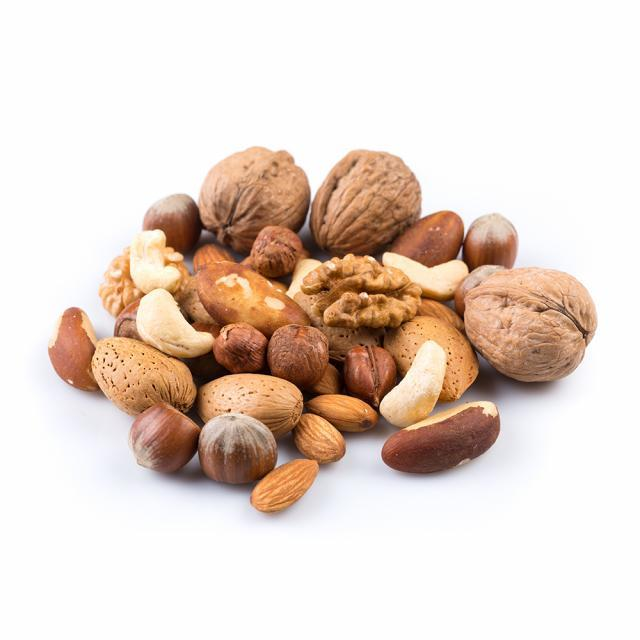Frutta secca: (43, 144, 601, 492)
